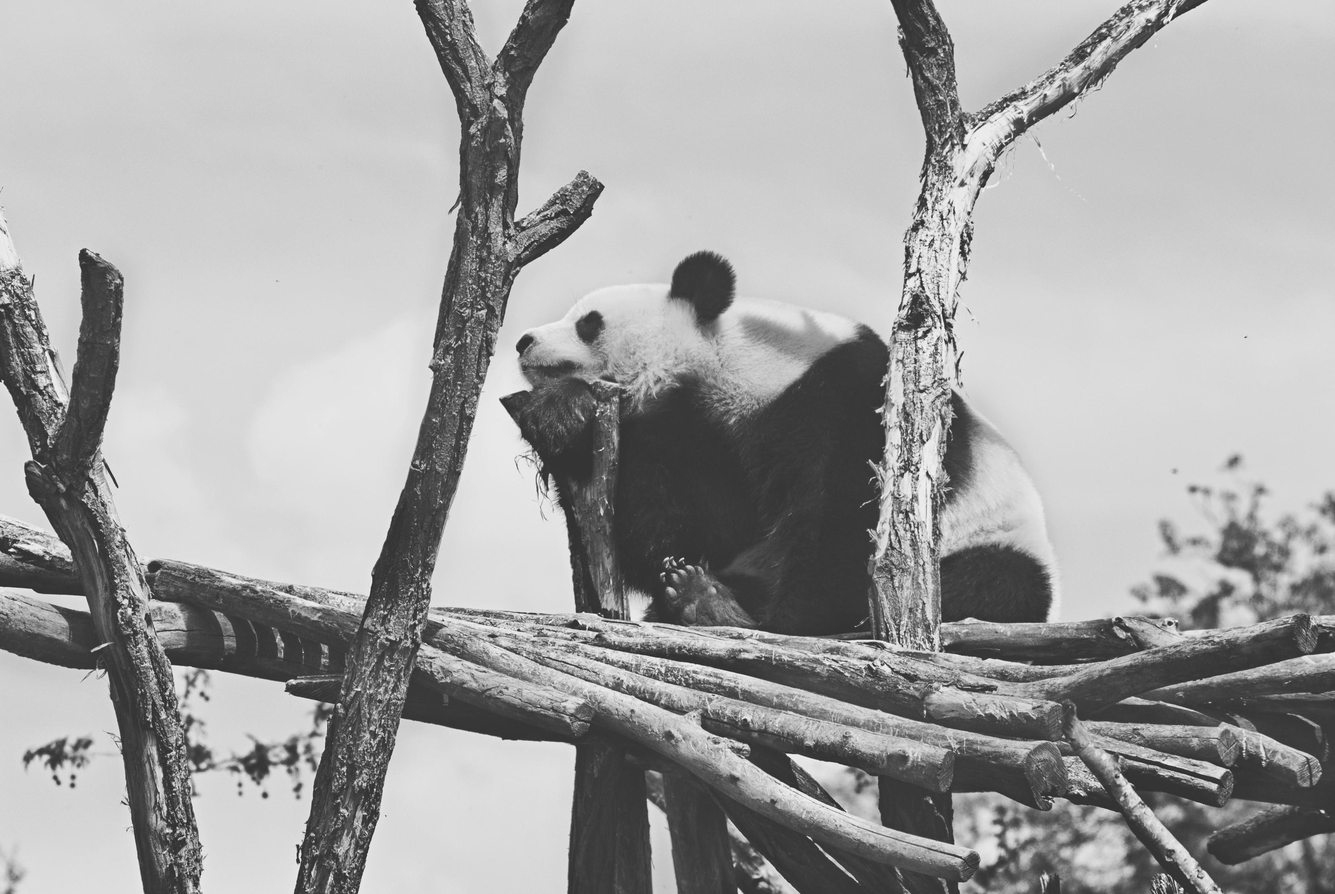panda: (520, 248, 1057, 674)
